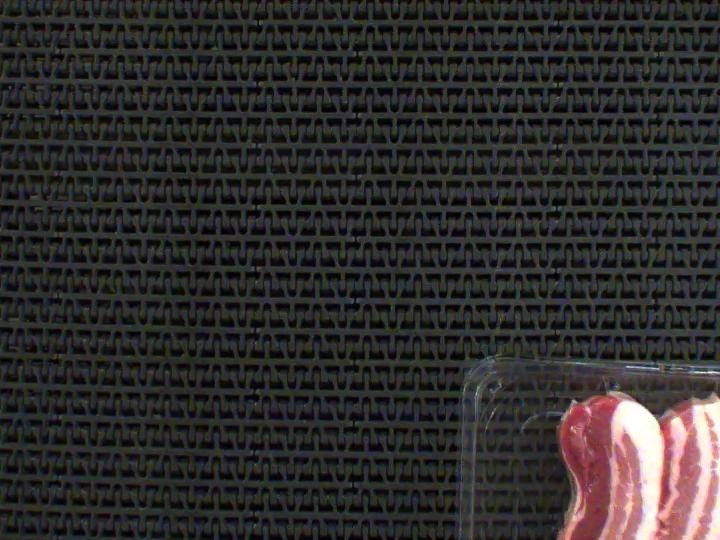packaging-error: (597, 371, 629, 398)
